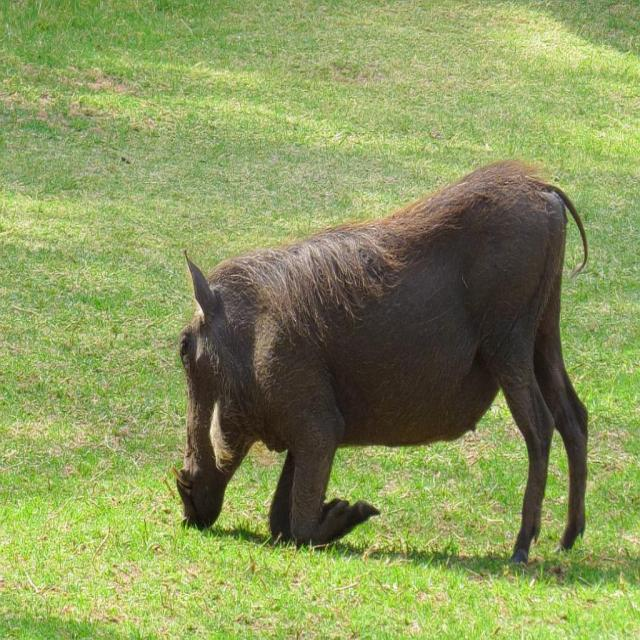Pig: (169, 159, 592, 571)
